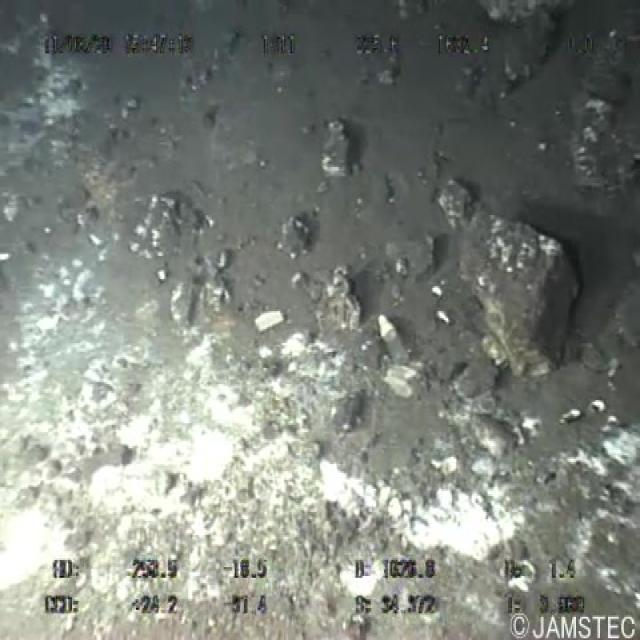plastic: (375, 308, 408, 366)
